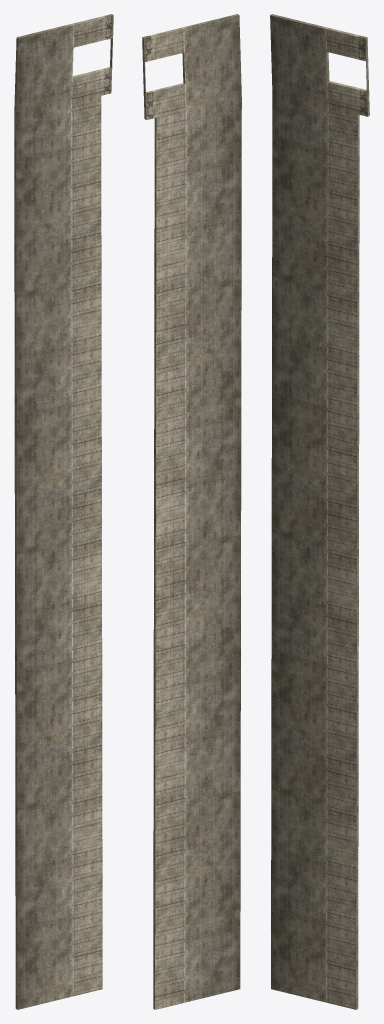
File: walls_and_columns_3.fbx
3 renders of one model, left to right at view 1: azimuth 30°, elevation 25°; view 2: azimuth 210°, elevation 25°; view 3: azimuth 330°, elevation 25°, orthographic.
Visible parts, largest first — view 1: walls_and_columns_3; view 2: walls_and_columns_3; view 3: walls_and_columns_3.
Part boxes in pixels (x1,y1,x2,y2): walls_and_columns_3: [14, 14, 113, 1009]; walls_and_columns_3: [142, 14, 241, 1009]; walls_and_columns_3: [270, 14, 369, 1009].
Size of the model in its own units: 900 by 8762 by 68.37.
